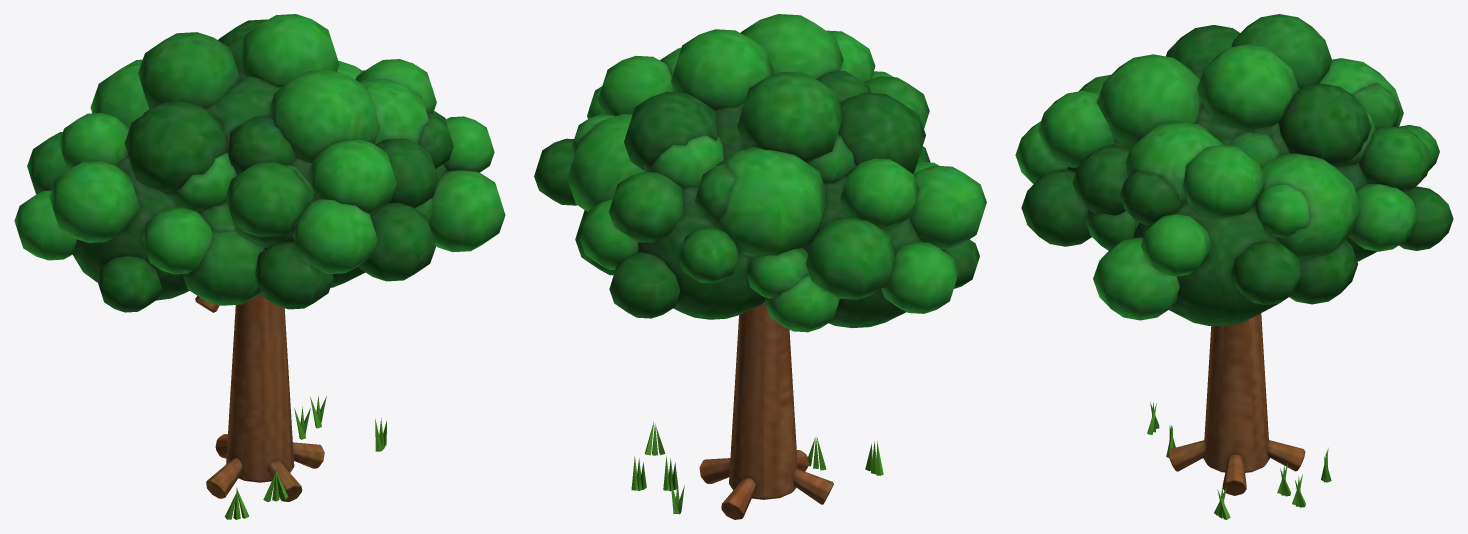
The model's file is lychee_tree.glb.
3 views of the same model, side by side, from view 1: azimuth 30°, elevation 25°; view 2: azimuth 150°, elevation 25°; view 3: azimuth 270°, elevation 25° (orthographic). The views are drawn at different scales.
Visible parts, largest first — view 1: crown, lychee_tree; view 2: crown, lychee_tree; view 3: crown, lychee_tree.
Part boxes in pixels (x1=…): crown: x1=14, y1=14, x2=505, y2=312; lychee_tree: x1=195, y1=293, x2=386, y2=519; crown: x1=534, y1=14, x2=986, y2=332; lychee_tree: x1=631, y1=302, x2=883, y2=519; crown: x1=1015, y1=14, x2=1453, y2=325; lychee_tree: x1=1147, y1=313, x2=1331, y2=519.
Bounding box in the file's own units: 1.27 × 1.3 × 1.17.
Materials: 1 (1 with a texture image).
